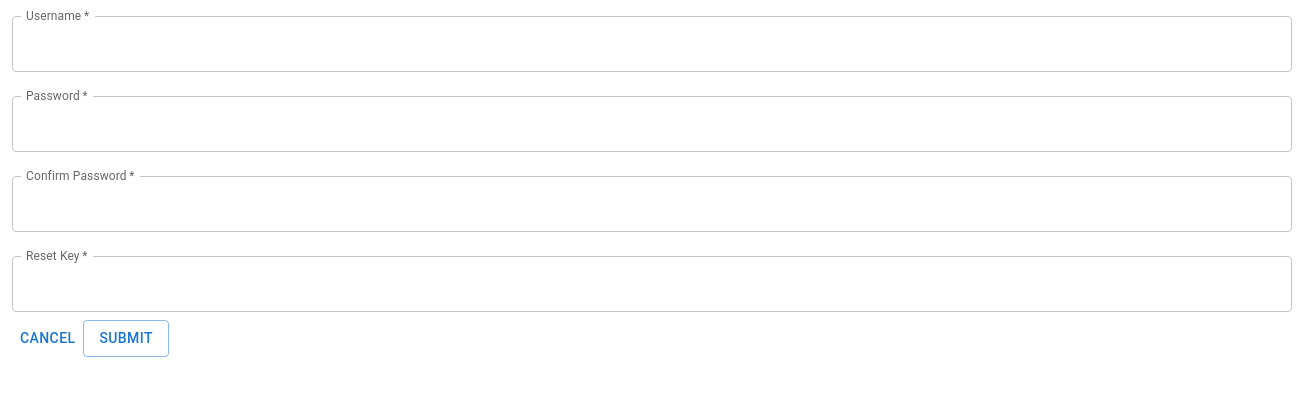
Reset Password Form › displays errors and does not submit the form with invalid data
In the field labelled "Username": (652, 44) [12, 16, 1292, 72], type "myUsername"
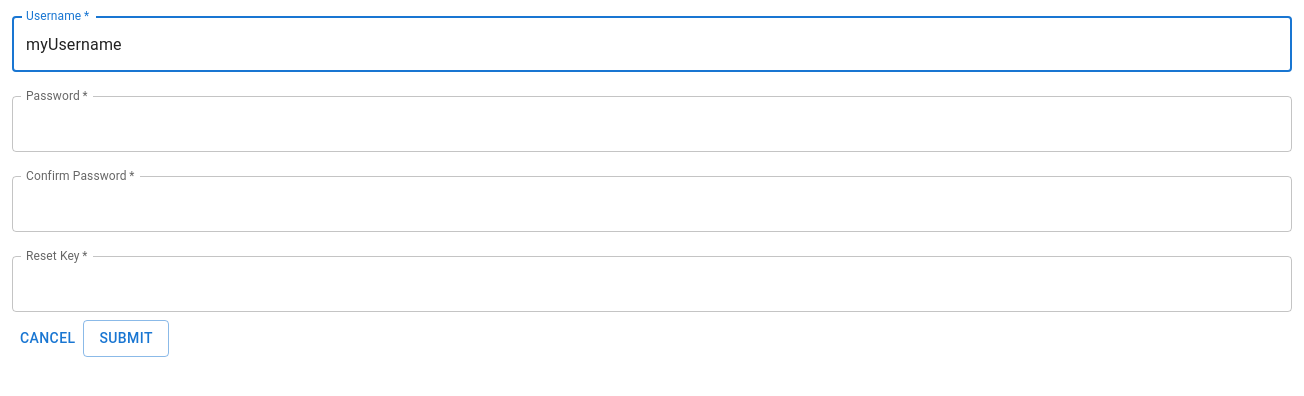
In the element with test id "pw": (652, 124) [12, 96, 1292, 152], type "nope"
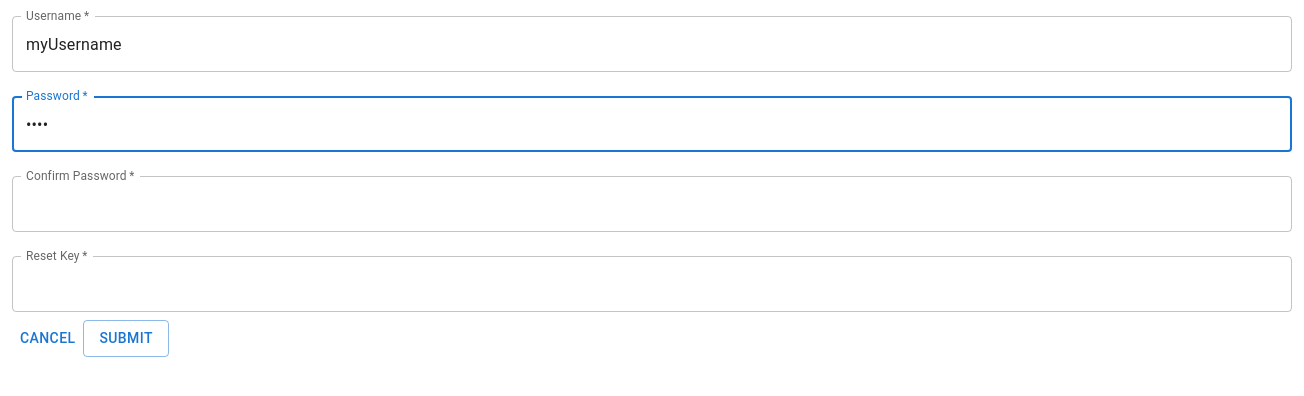
In the element with test id "confirm-pw": (652, 204) [12, 176, 1292, 232], type "nope"
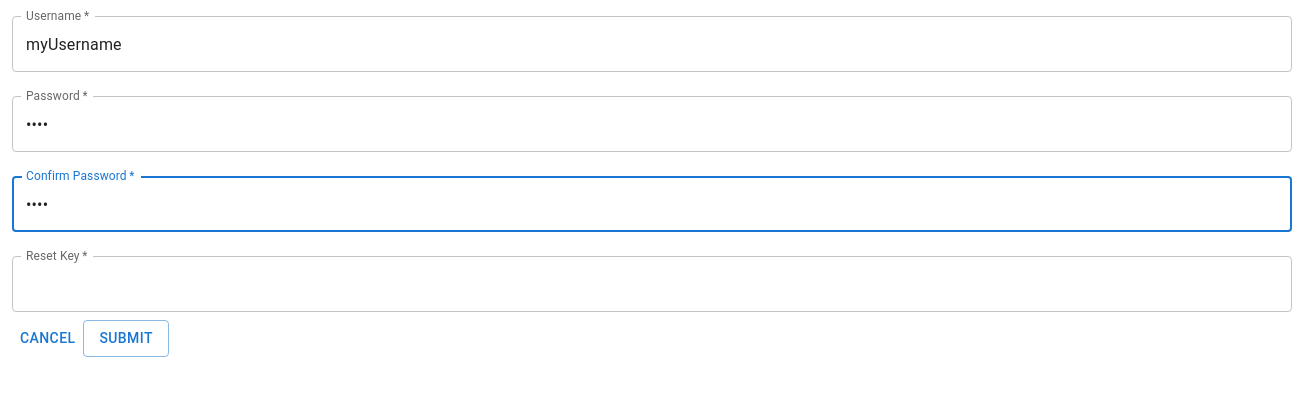
In the field labelled "Reset Key": (652, 284) [12, 256, 1292, 312], type "myResetKey"
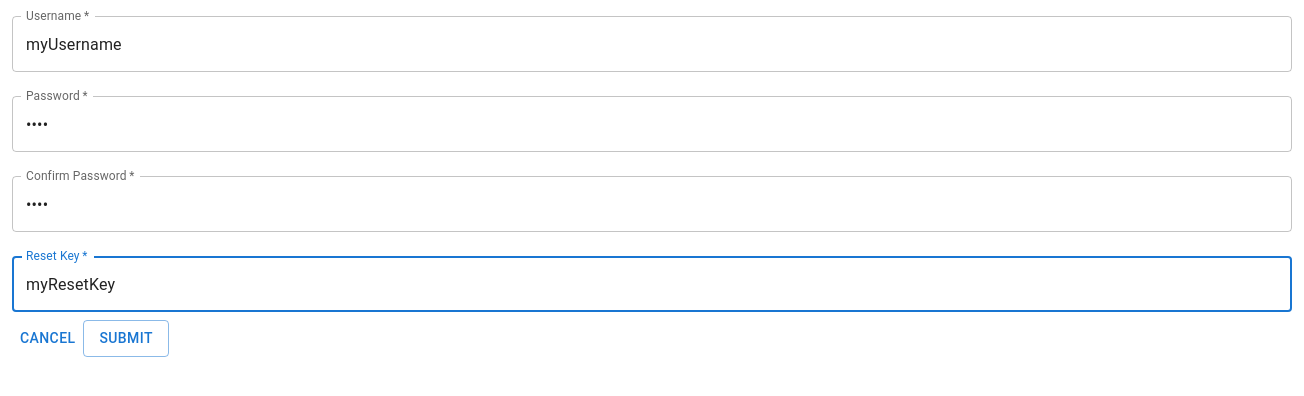
Click the button "Submit": (126, 338) [84, 320, 169, 356]
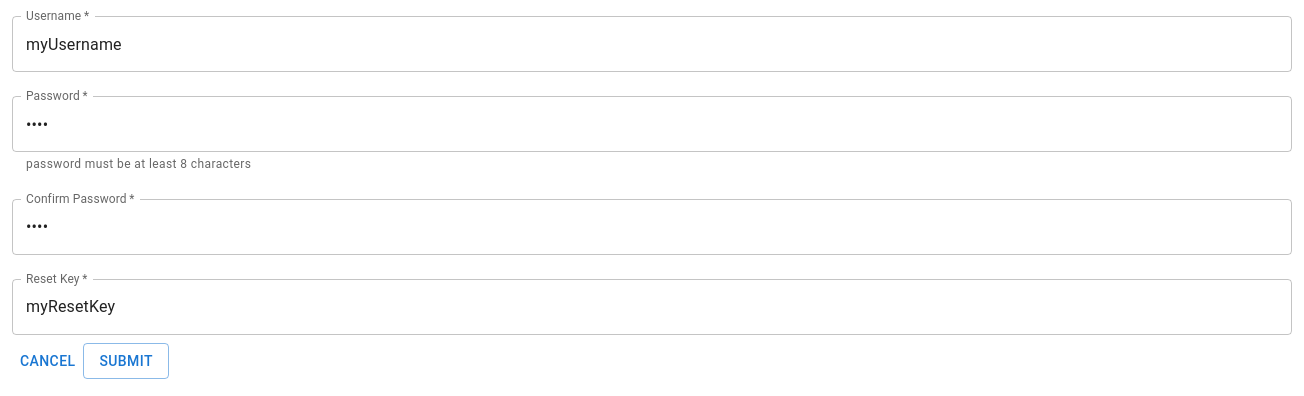
Check: the text "password must be at least 8 characters" is shown, box [26, 157, 251, 171]
